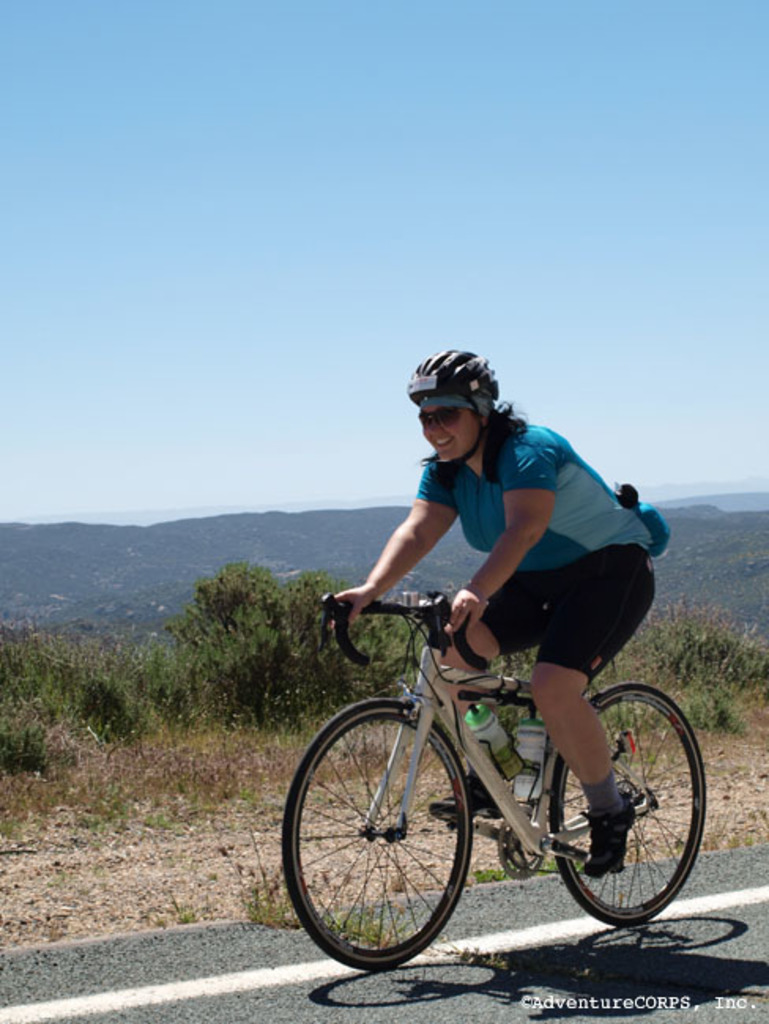Bike: (235, 616, 628, 969)
